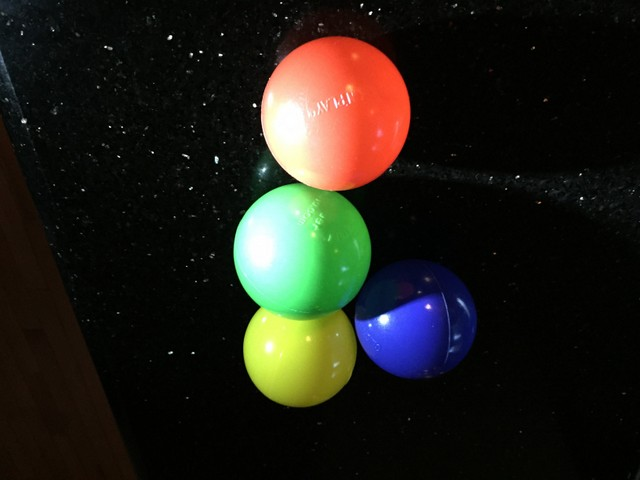ball: (242, 304, 357, 409)
